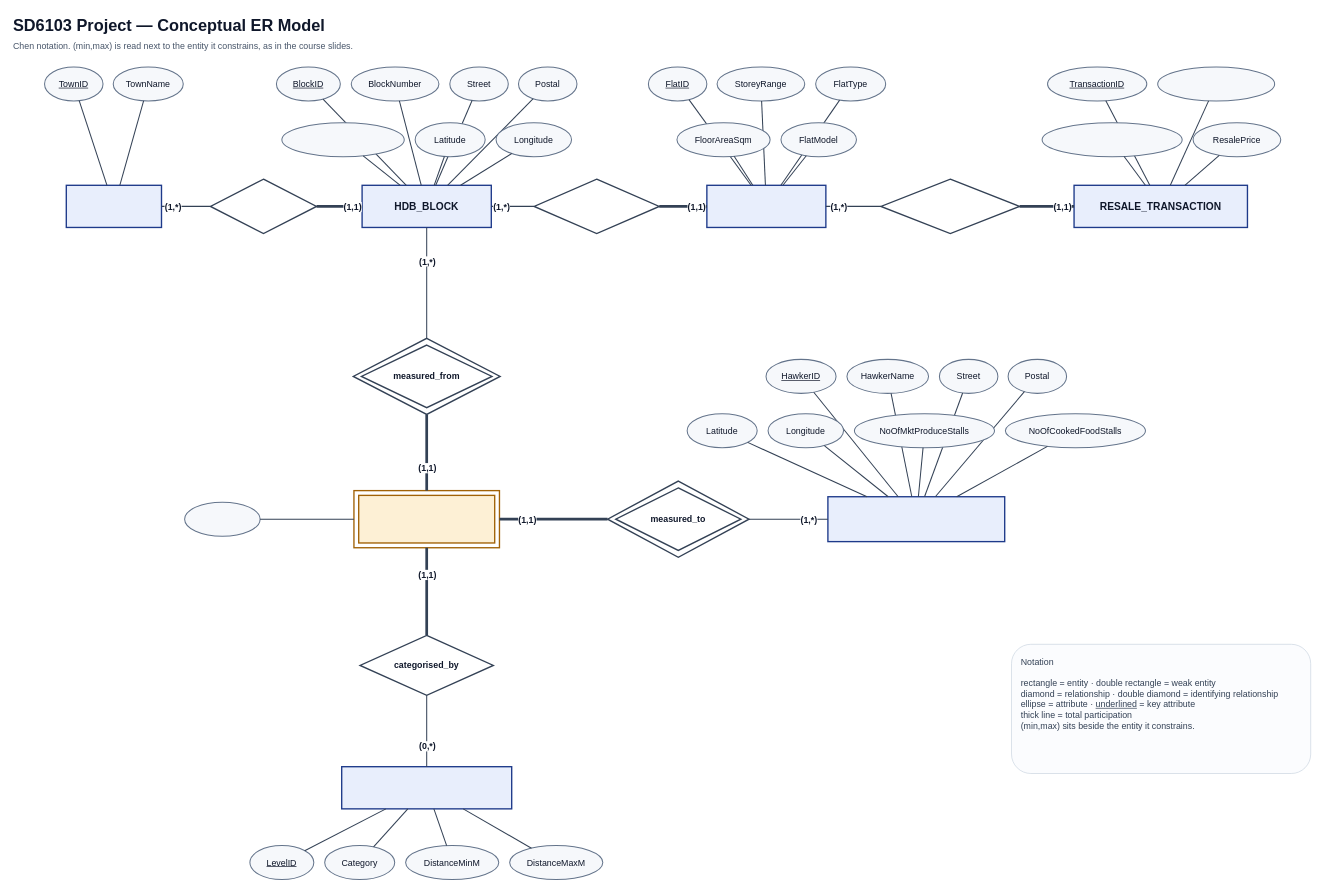
The diagram is 1323 pixels wide and 891 high, and some of its shapes have lost their labels. Each missing label, with the centre of its shape:
"comprises_of" goes at [596,206].
"DistanceM" goes at [222,518].
"has_transaction" goes at [950,206].
"HAWKER_CENTRE" goes at [916,519].
"HDB_FLAT" goes at [766,206].
"LeaseCommenceYear" goes at [342,139].
"located_in" goes at [263,206].
"PROXIMITY" goes at [426,518].
"PROXIMITY_LEVEL" goes at [426,787].
"RemainingLeaseMonths" goes at [1111,139].
"TOWN" goes at [113,206].
"TransactionMonth" goes at [1216,83].
